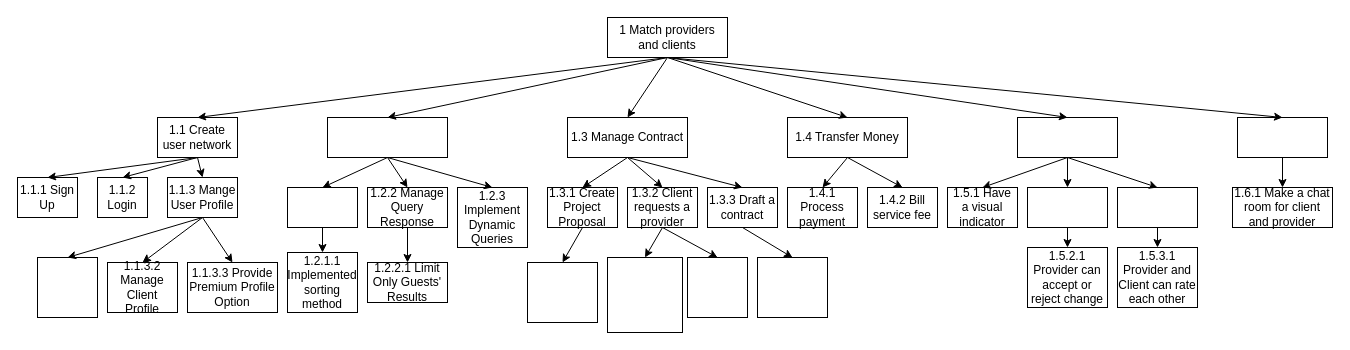
Some shapes in this 1350 by 350 pixel diagram are drawn without their labels. Each missing label, with the centre of its shape:
1.1.3.1 Manage Provider Profile: pixel 67 287
1.2 Query User Data: pixel 387 137
1.2.1 Sort Query Results: pixel 322 207
1.3.1.1 User can accept or reject contract: pixel 792 287
1.3.1.1 User can accept or reject proposal: pixel 562 292
1.3.2.1 Client can accept default or offer new provider rate: pixel 644 294
1.3.2.2 Provider can accept or reject: pixel 717 287
1.5 Project Progress: pixel 1067 137
1.5.2 Manage change requests: pixel 1067 207
1.5.3 Provide feedback system: pixel 1157 207
1.6 Chat Room: pixel 1282 137
